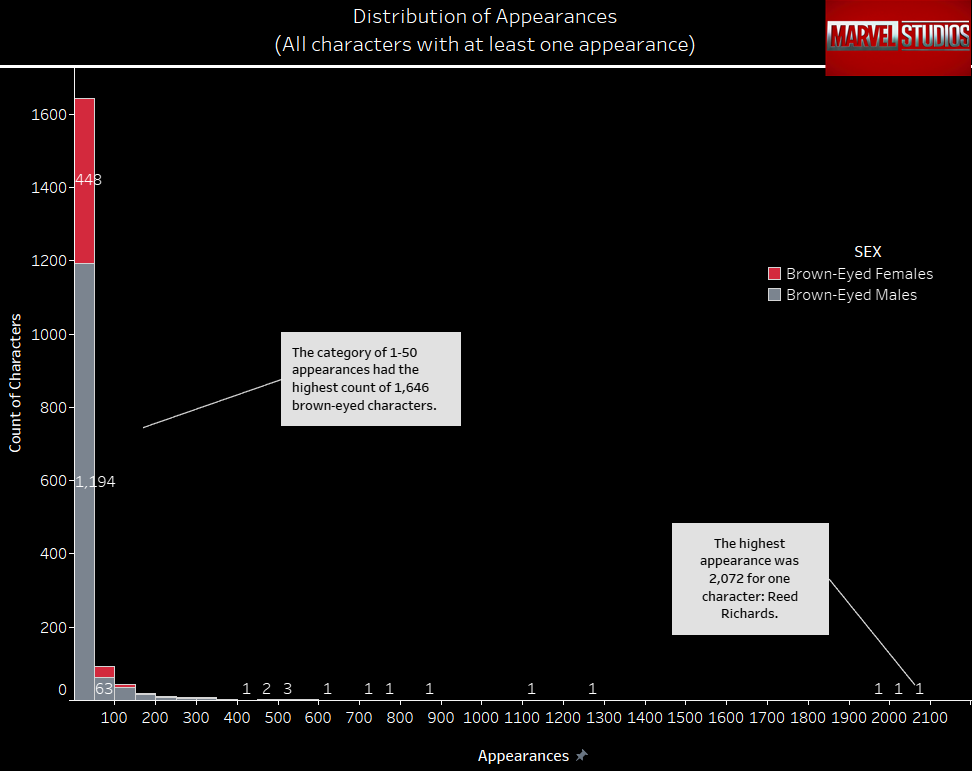

Layout of this report page (visuals, bound fields, positions):
{"tool":"tableau","page":{"name":"Appearances Distribution","canvas":[1000,800],"ordinal":0},"visuals":[{"type":"worksheet","title":"Distribution of Appearances","mark":"Automatic","rows":["APPEARANCES"],"cols":["Appearances (bin)"],"box":[8,8,984,784]},{"type":"image","param":"Image/marvel-studios-logo.png","box":[840,14,149,77]},{"type":"legend","title":"Distribution of Appearances","param":"[federated.048lfrz0i15shz1b4jzxf1fmieic].[none:SEX:nk]","box":[779,256,208,79]}]}

Visuals, with their boxes in screenshot pixels (x1, y1, x2, y2), scaled from the page's 1000x800 canvas onto the 972x771 screenshot:
"Distribution of Appearances" worksheet: bbox=(8, 8, 964, 763)
image: bbox=(816, 13, 961, 88)
"Distribution of Appearances" legend: bbox=(757, 247, 959, 323)
